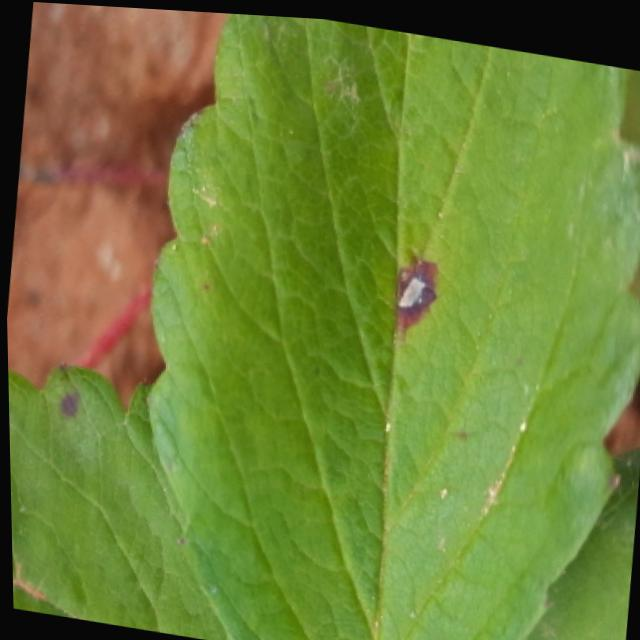Leaf Spot: (143, 10, 640, 640), (6, 361, 230, 640), (512, 434, 640, 640)
